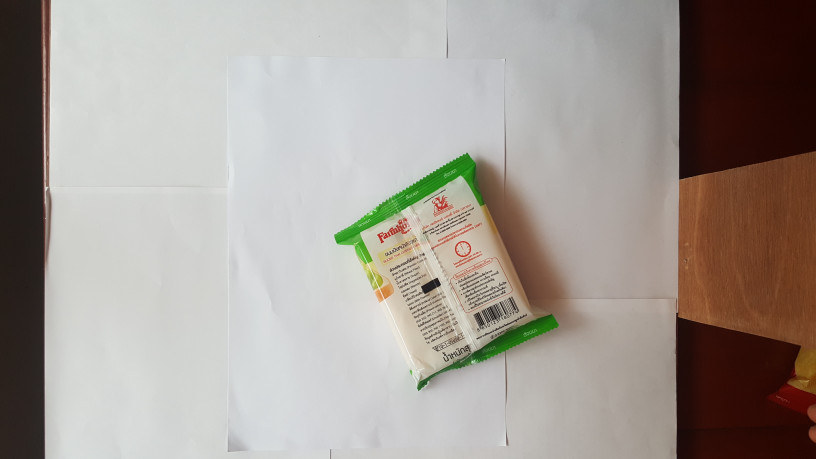farmhouse-bread-pandan: (327, 153, 565, 395)
